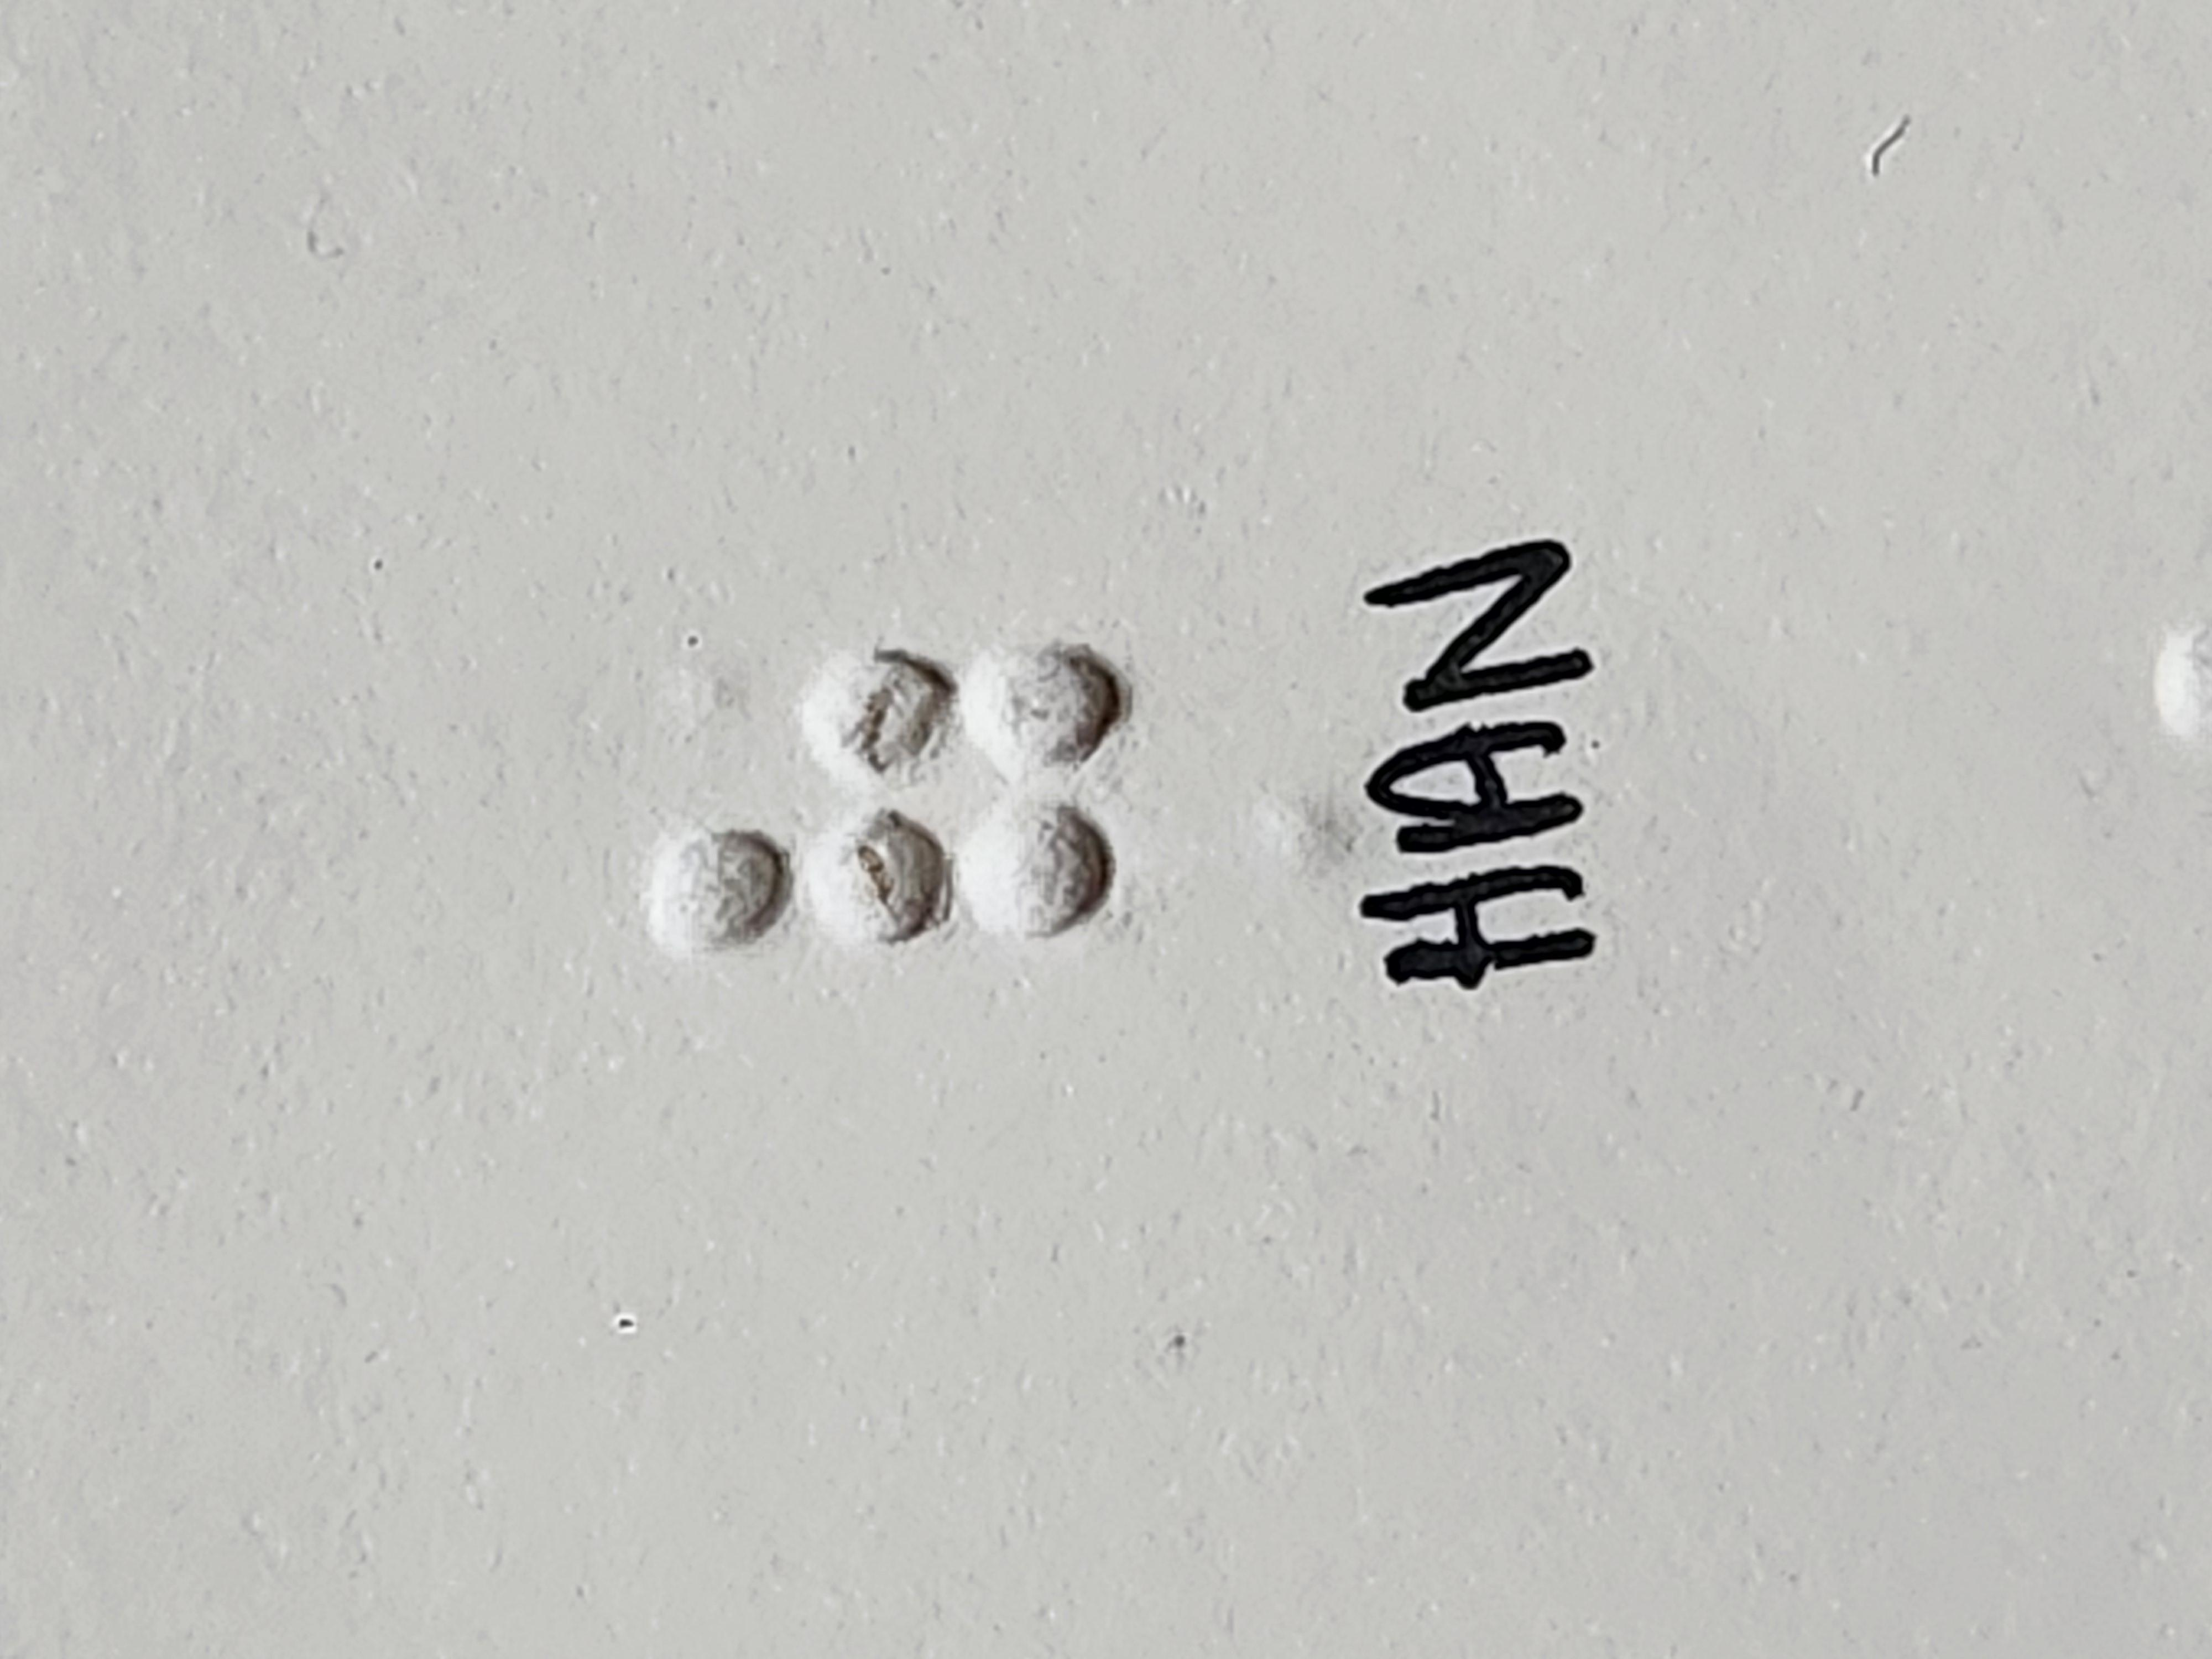one_cell_part_word_han: (923, 477, 1369, 845)
